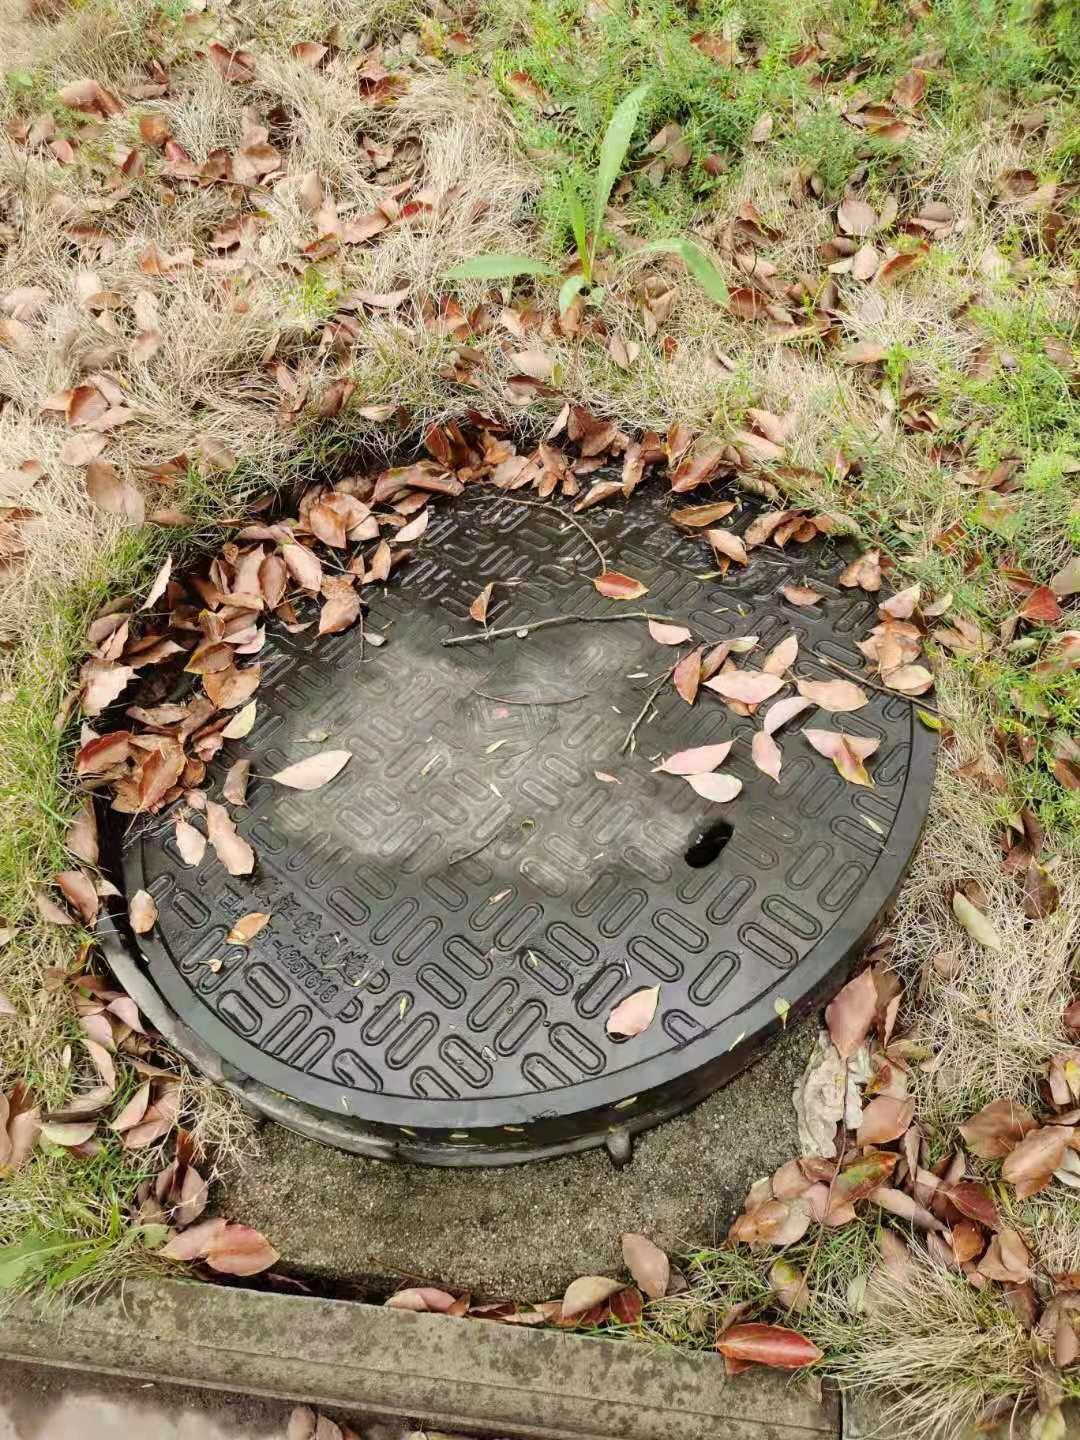uncovered: (70, 422, 935, 1167)
